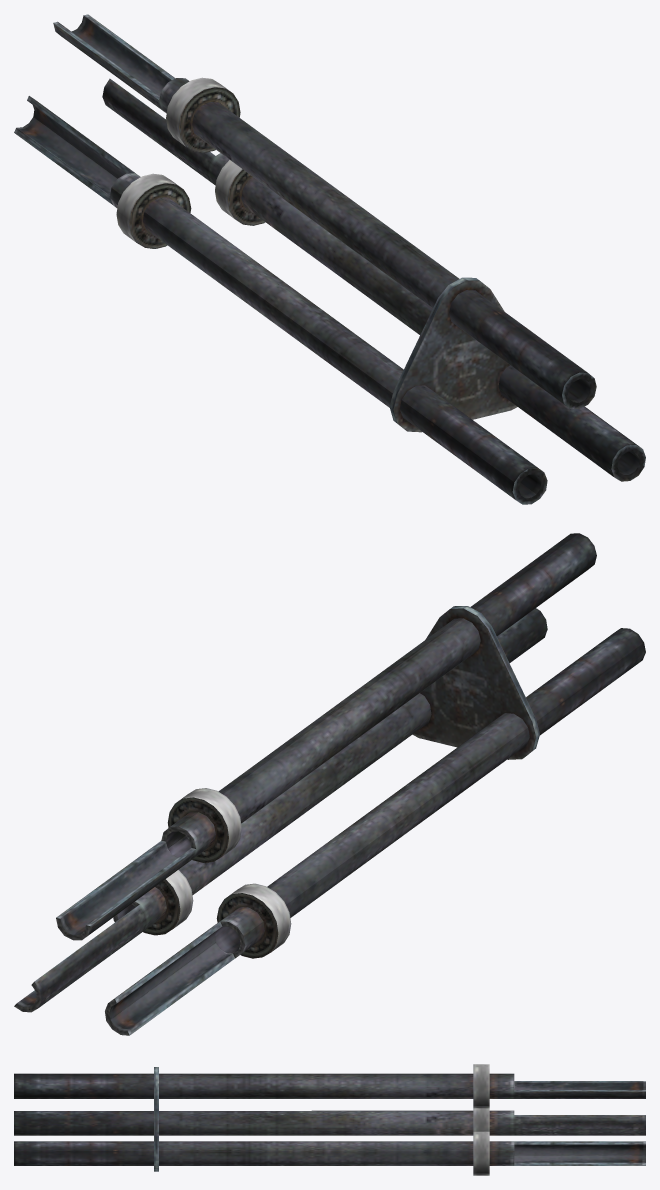
File: stvol.obj
The picture shows the model from 3 angles, top to bottom: view 1: azimuth 30°, elevation 25°; view 2: azimuth 150°, elevation 25°; view 3: azimuth 270°, elevation 25°; orthographic projection. The views are drawn at different scales.
Parts seen in each view (by area): view 1: wpn34_gatling; view 2: wpn34_gatling; view 3: wpn34_gatling.
Boxes of the visible parts, left/top/right/bottom form: wpn34_gatling: left=14, top=14, right=645, bottom=504; wpn34_gatling: left=14, top=533, right=645, bottom=1035; wpn34_gatling: left=14, top=1064, right=645, bottom=1175.
Size of the model in its own units: 0.1651 by 0.146 by 0.9088.
Materials: 1 (1 with a texture image).
